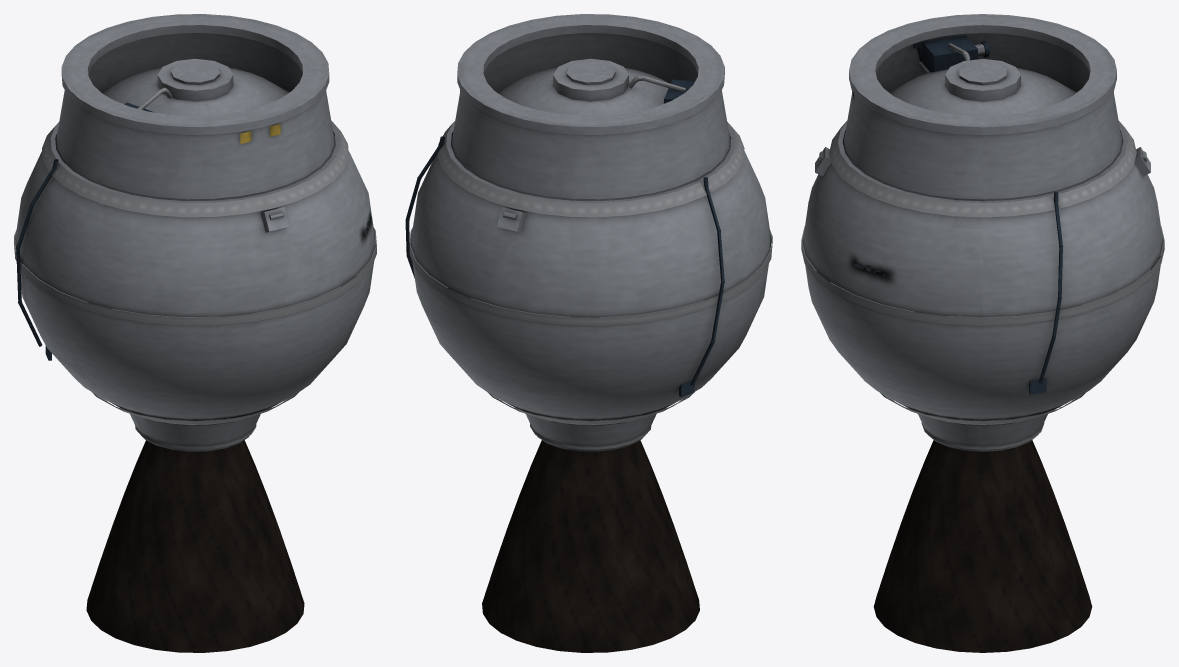
Rendered from eng_solid_kick_motor.glb.
3 views of the same model, side by side, from view 1: azimuth 30°, elevation 25°; view 2: azimuth 150°, elevation 25°; view 3: azimuth 270°, elevation 25° (orthographic).
Visible parts, largest first — view 1: eng_solid_kick_motor_mesh; view 2: eng_solid_kick_motor_mesh; view 3: eng_solid_kick_motor_mesh.
Boxes of the visible parts, left/top/right/bottom form: eng_solid_kick_motor_mesh: left=14, top=14, right=376, bottom=652; eng_solid_kick_motor_mesh: left=405, top=14, right=772, bottom=652; eng_solid_kick_motor_mesh: left=801, top=14, right=1164, bottom=652.
Size of the model in its own units: 1.25 by 2.03 by 1.25.
1 material, 1 textured.
